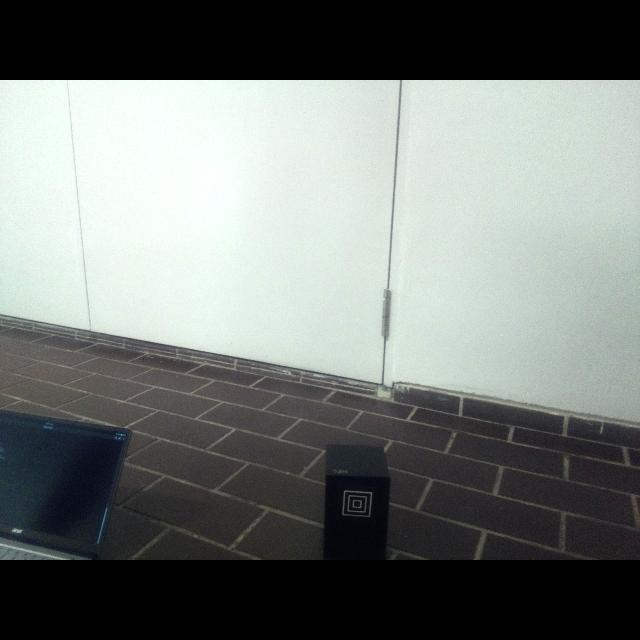BULLSEYE: (342, 491, 372, 518)
